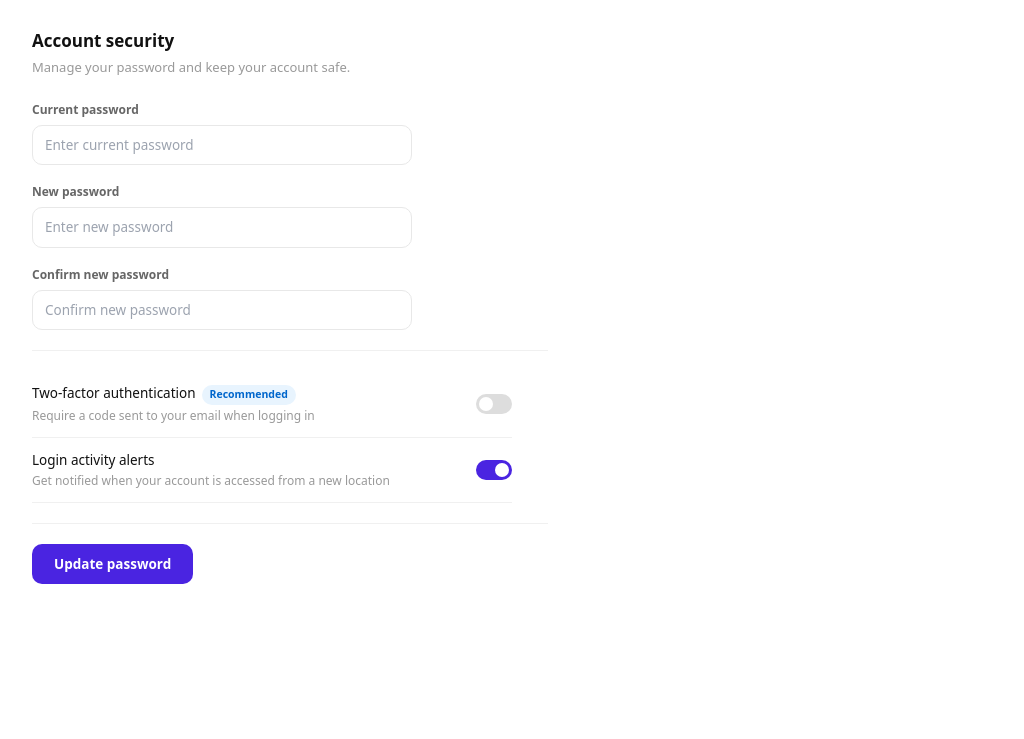
Test: SecuritySection › enabling two-factor authentication › requests a code, then confirms it to turn 2FA on
Click the checkbox in the row of "Recommended". click: [494, 404]
box: [476,394,512,414]
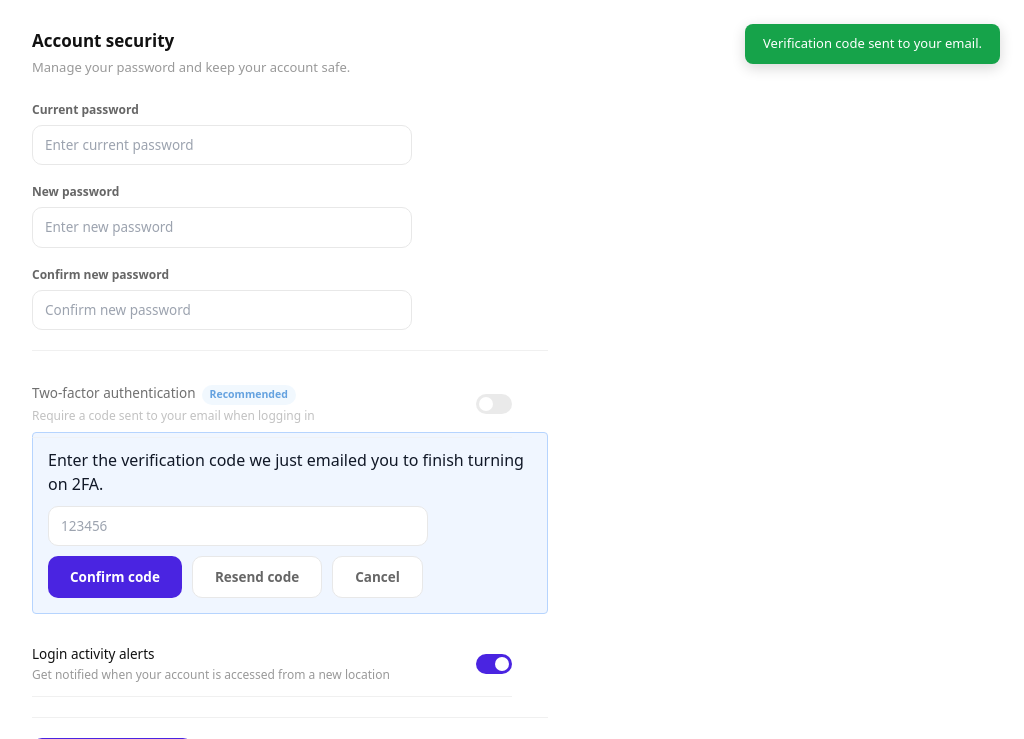
Now the text "Enter the verification code" is shown, box [48,448,524,494]
Type "998877" into the field with placeholder "123456". click: [238, 526]
box: [48,506,428,546]
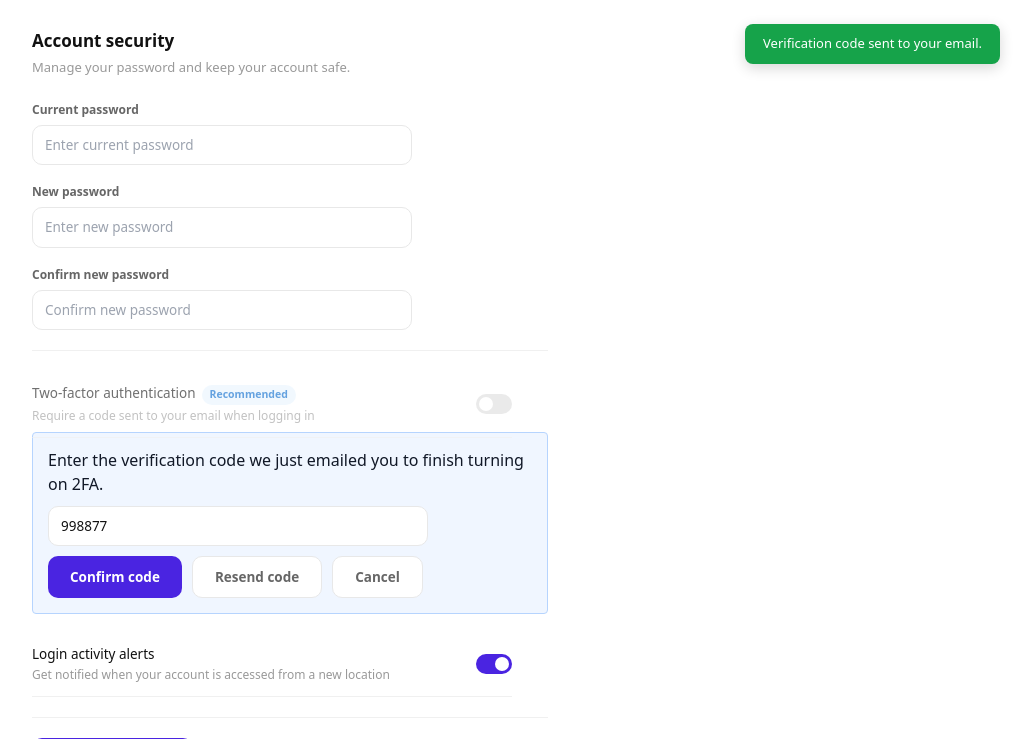
Click the button "Confirm code". click: [115, 577]
box: [48,556,182,598]
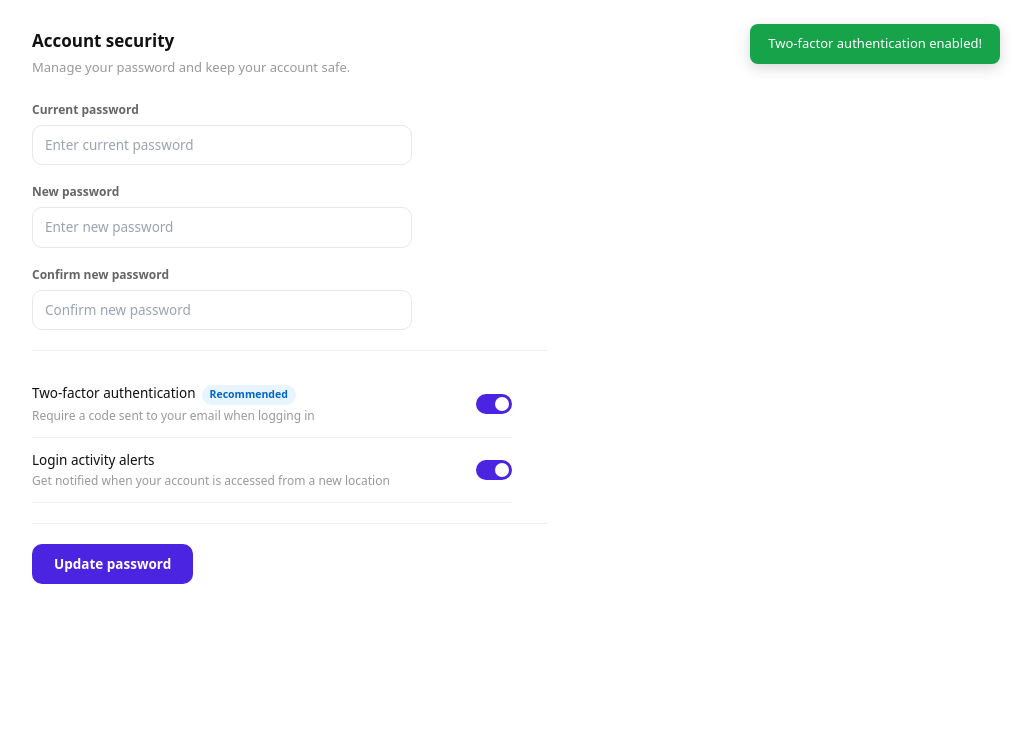
Now the checkbox in the row of "Recommended" is checked, box [476,394,512,414]
Now the text "Two-factor authentication enabled!" is shown, box [750,24,1000,64]
